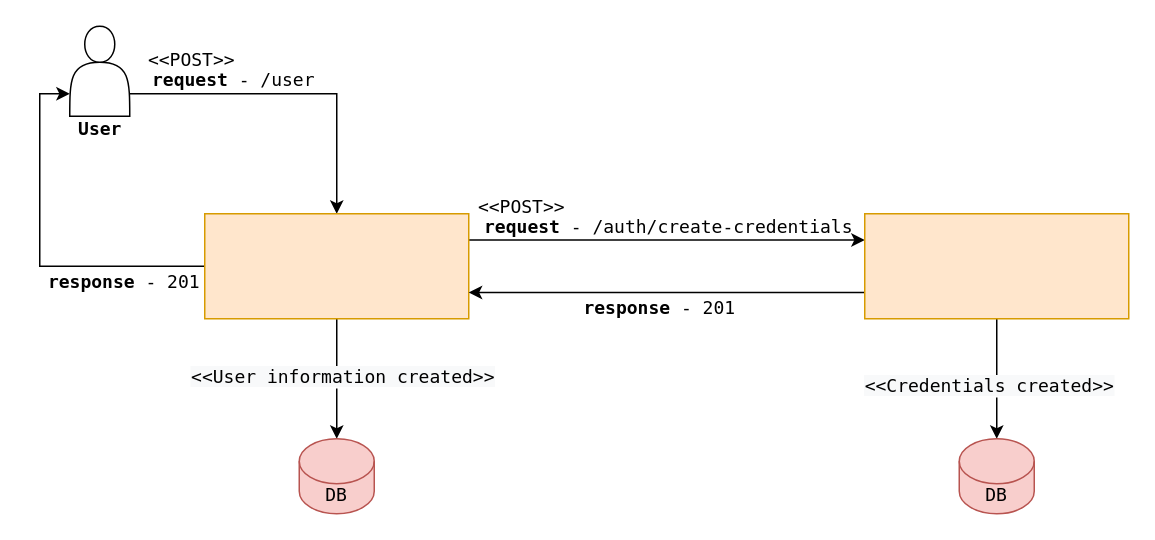
Some shapes in this 1155 by 540 pixel diagram are drawn without their labels. Each missing label, with the centre of its shape:
"API Auth" goes at [996,265].
"User service" goes at [336,265].
